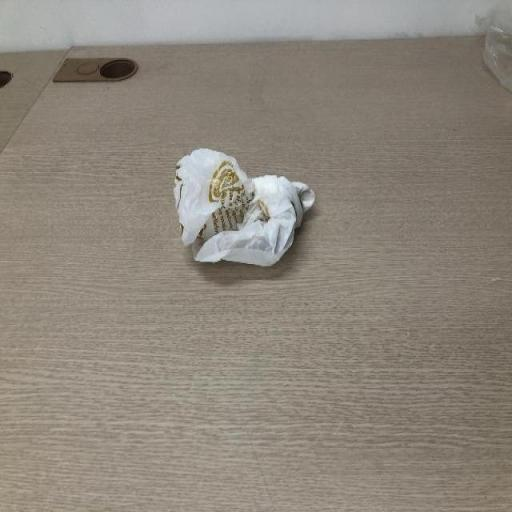plastic-bag: (172, 146, 318, 272)
